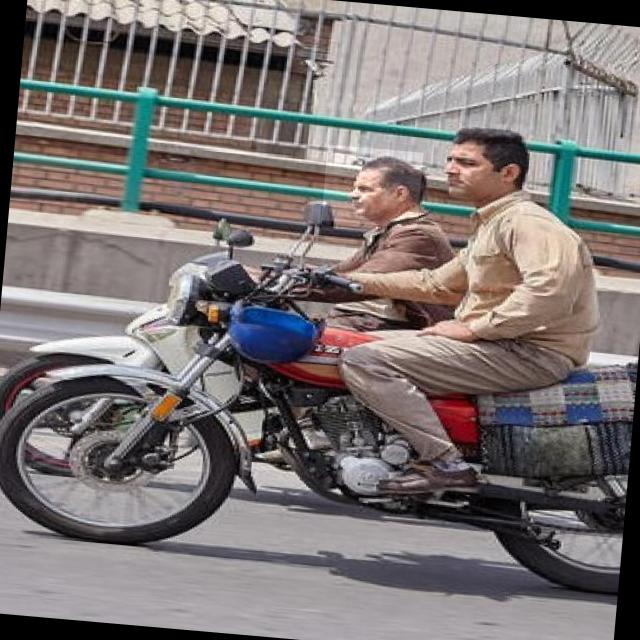without helmet: (423, 117, 538, 210), (321, 144, 423, 228)
